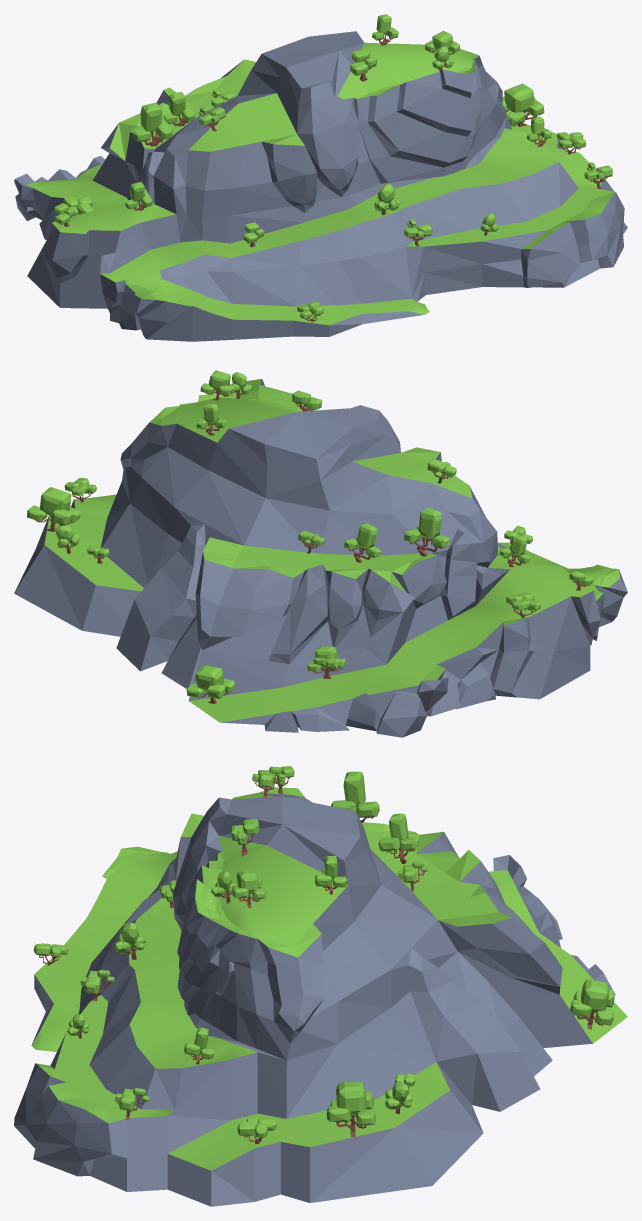
Rendered from geostructures_no3.fbx.
3 views of the same model, one above another, from view 1: azimuth 30°, elevation 25°; view 2: azimuth 150°, elevation 25°; view 3: azimuth 270°, elevation 25° (orthographic). The views are drawn at different scales.
Parts seen in each view (by area): view 1: landform_03shrubbed:geology, landform_03shrubbed:shrubs; view 2: landform_03shrubbed:geology, landform_03shrubbed:shrubs; view 3: landform_03shrubbed:geology, landform_03shrubbed:shrubs.
Part boxes in pixels (x1,y1,x2,y2): landform_03shrubbed:geology: (14,31,627,341); landform_03shrubbed:shrubs: (54,14,612,322); landform_03shrubbed:geology: (14,379,627,737); landform_03shrubbed:shrubs: (27,370,593,703); landform_03shrubbed:geology: (14,787,627,1206); landform_03shrubbed:shrubs: (33,766,614,1143).
Size of the model in its own units: 41188 by 14385 by 32591.
